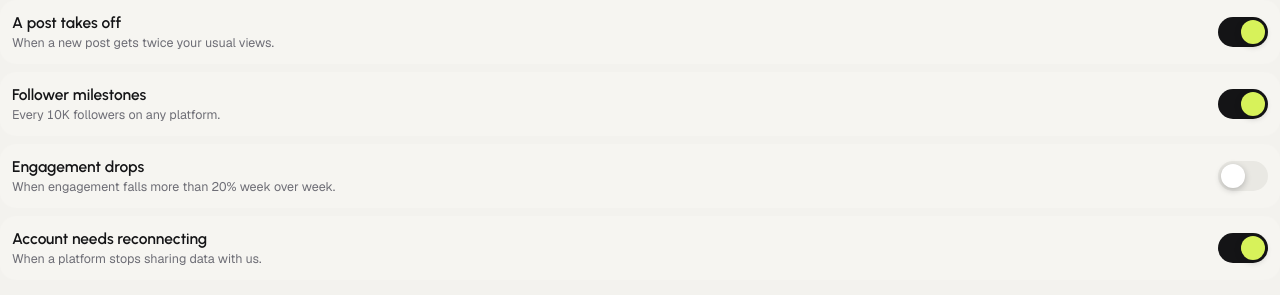
Test: AlertSettings › flips back when saving fails
Click the switch named "Follower milestones" at (1243, 104), box top-left (1218, 82), bottom-right (1268, 126)
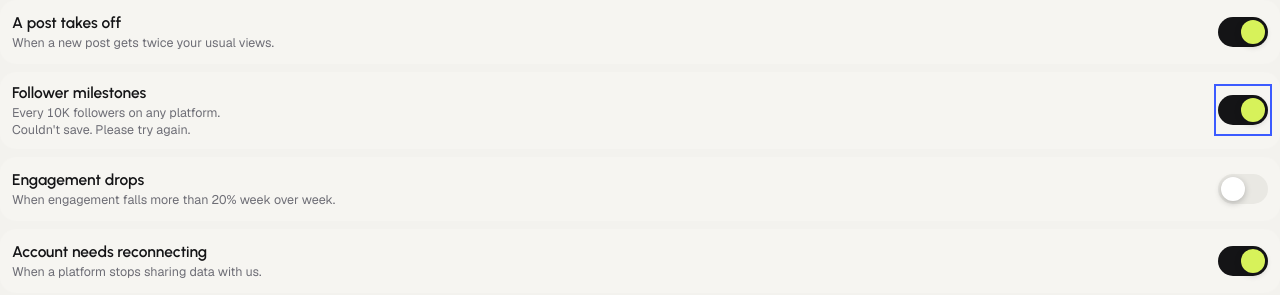
Result: the message shows "Couldn't save" at top-left (12, 121), bottom-right (190, 138)
